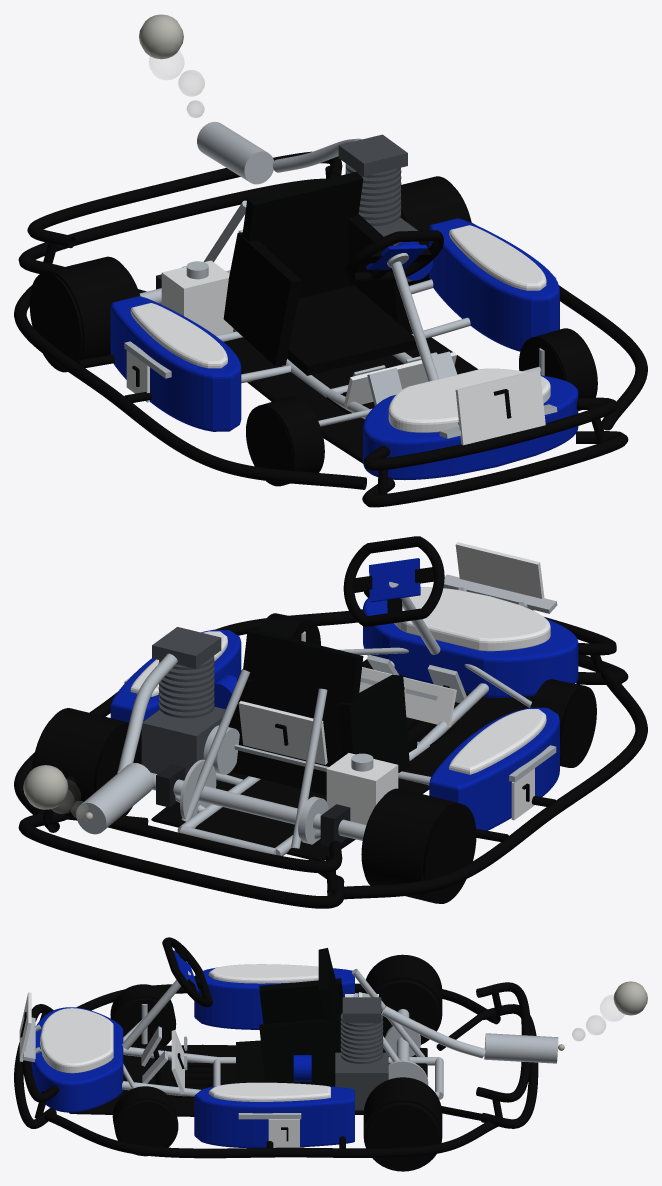
File: KartV2.obj
3 renders of one model, top to bottom at view 1: azimuth 30°, elevation 25°; view 2: azimuth 150°, elevation 25°; view 3: azimuth 270°, elevation 25°, orthographic. The views are drawn at different scales.
Visible parts, largest first — view 1: seat_back, sidepod_right, sidepod_left, seat_base, nose_fairing, seat_bolster_l, floor_tray, side_rail_l, nose_number_plate, wheel_rear_left_tire, nose_flash, bumper_front_lower (+24 smaller); view 2: seat_back, nose_fairing, floor_tray, sidepod_left, nose_flash, wheel_rear_left_tire, side_rail_l, bumper_rear_lower, seat_bolster_l, wheel_rear_right_tire, crankcase, bumper_rear_upper (+39 smaller); view 3: sidepod_right, side_rail_r, seat_bolster_r, nose_fairing, nose_flash, floor_tray, wheel_rear_right_sidewall_o, sidepod_left, seat_bolster_l, wheel_front_right_sidewall_o, wheel_rear_right_tire, wheel_rear_left_sidewall_o (+35 smaller).
Boxes of the visible parts, <box> form: seat_back: <box>242,171,363,298</box>; sidepod_right: <box>429,218,559,351</box>; sidepod_left: <box>110,296,241,431</box>; seat_base: <box>287,285,416,375</box>; nose_fairing: <box>363,375,578,480</box>; seat_bolster_l: <box>223,232,301,366</box>; floor_tray: <box>224,322,477,463</box>; side_rail_l: <box>14,285,366,489</box>; nose_number_plate: <box>455,369,545,445</box>; wheel_rear_left_tire: <box>44,256,138,360</box>; nose_flash: <box>388,368,550,432</box>; bumper_front_lower: <box>362,431,628,507</box>; seat_back: <box>231,629,363,794</box>; nose_fairing: <box>363,597,578,697</box>; floor_tray: <box>151,659,534,860</box>; sidepod_left: <box>429,707,559,830</box>; nose_flash: <box>394,587,550,651</box>; wheel_rear_left_tire: <box>362,788,461,903</box>; side_rail_l: <box>327,668,647,899</box>; bumper_rear_lower: <box>18,812,344,908</box>; seat_bolster_l: <box>338,674,409,772</box>; wheel_rear_right_tire: <box>33,708,128,806</box>; crankcase: <box>141,706,225,777</box>; bumper_rear_upper: <box>49,776,342,872</box>; sidepod_right: <box>194,1086,354,1148</box>; side_rail_r: <box>44,1111,497,1158</box>; seat_bolster_r: <box>259,1017,340,1086</box>; nose_fairing: <box>31,1007,123,1112</box>; nose_flash: <box>40,1008,113,1073</box>; floor_tray: <box>69,1044,427,1116</box>; wheel_rear_right_sidewall_o: <box>365,1102,440,1169</box>; sidepod_left: <box>194,967,354,1029</box>; seat_bolster_l: <box>259,978,343,1024</box>; wheel_front_right_sidewall_o: <box>116,1100,176,1147</box>; wheel_rear_right_tire: <box>363,1078,442,1171</box>; wheel_rear_left_sidewall_o: <box>375,979,440,1042</box>.
Bounding box in the file's own units: 166 × 71.37 × 262.
